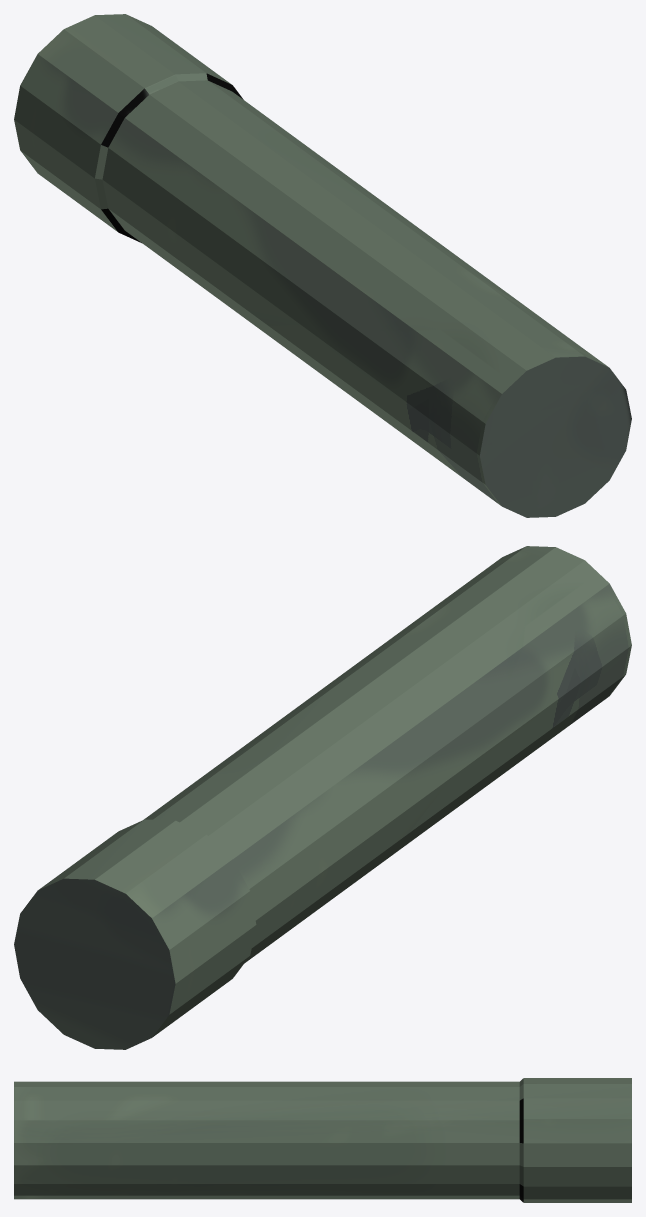
The model's file is eryx 1.fbx.
3 views of the same model, one above another, from view 1: azimuth 30°, elevation 25°; view 2: azimuth 150°, elevation 25°; view 3: azimuth 270°, elevation 25° (orthographic). The views are drawn at different scales.
Parts seen in each view (by area): view 1: Tow; view 2: Tow; view 3: Tow.
Boxes of the visible parts, <box> form: Tow: <box>14,14,631,517</box>; Tow: <box>14,546,631,1049</box>; Tow: <box>14,1078,631,1202</box>.
Bounding box in the file's own units: 82.81 × 409 × 82.81.
1 material, 1 textured.
